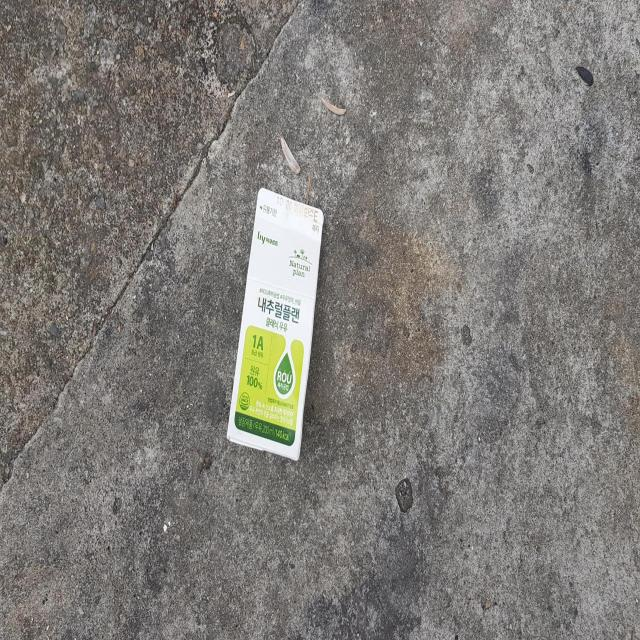paperpack: (227, 187, 324, 460)
